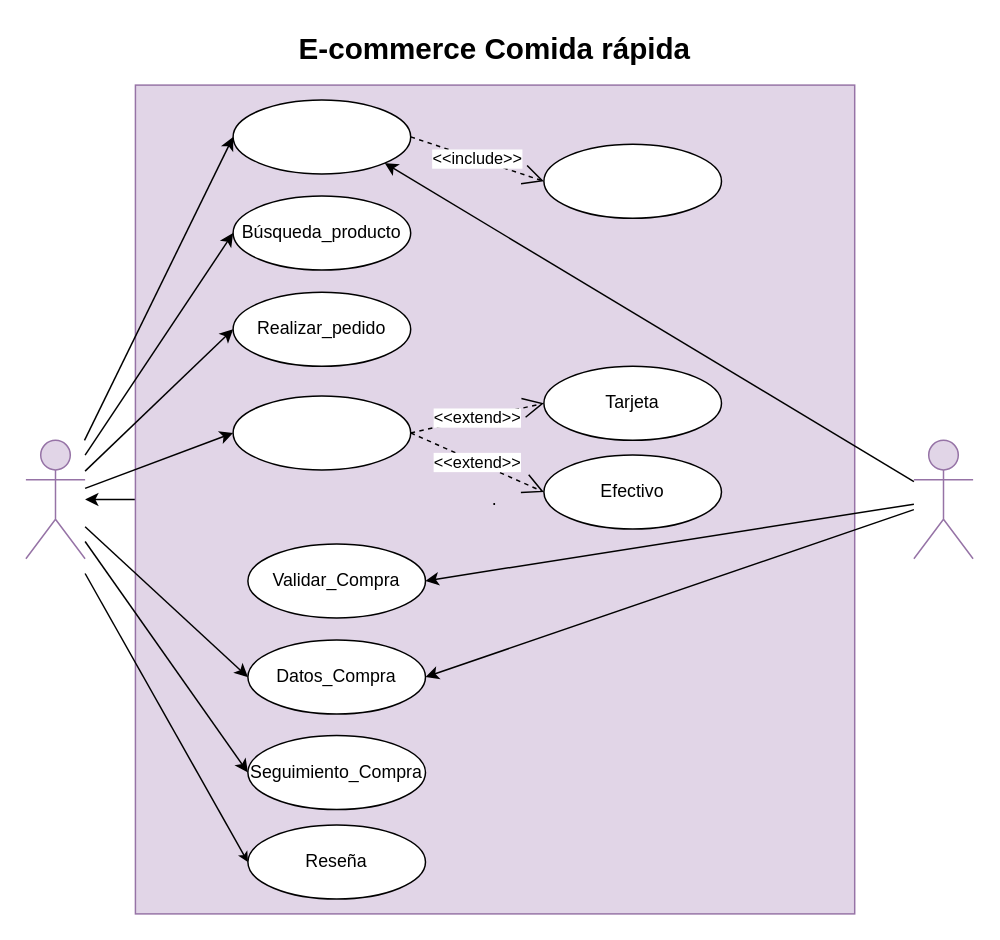
This 1000x940 diagram has some shape labels left out. The shapes that lost their labels are listed below. From the top down, each one's centre as x and y in pixels, then its label:
At point (321, 136): "Actualizar_ubicación".
At point (632, 180): "Registro".
At point (321, 432): "Realizar_pago".
At point (54, 499): "Cliente".
At point (942, 499): "Sistema".
